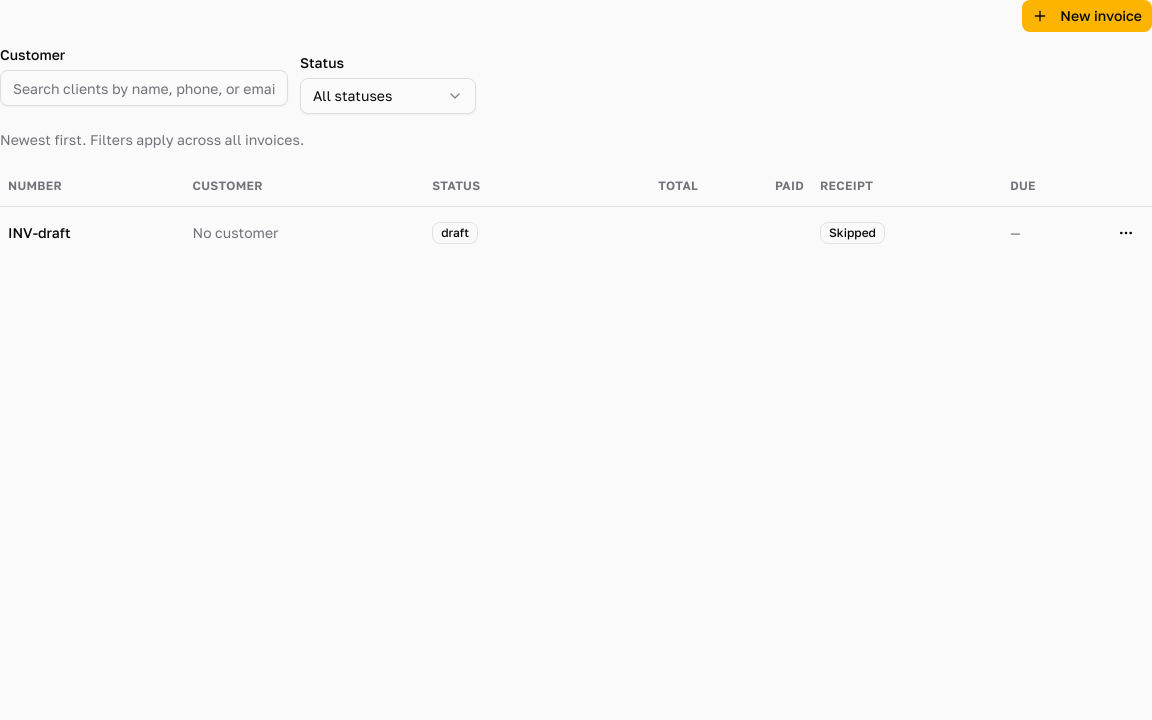
Test case: invoice row actions › asks before destroying a draft, naming which one
This screenshot has width=1152, height=720.
Click the button named "Actions" at (1126, 232), box [1108, 214, 1144, 250]
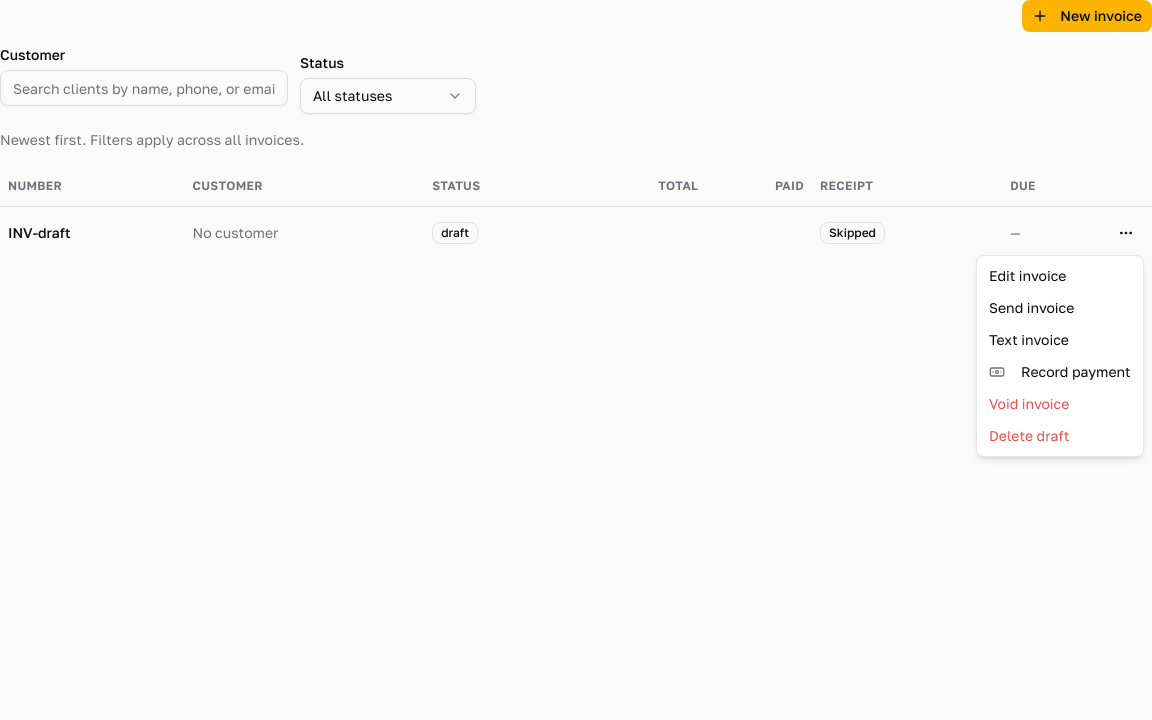
Click the menu item "Delete draft" at (1029, 436), box [989, 427, 1069, 444]
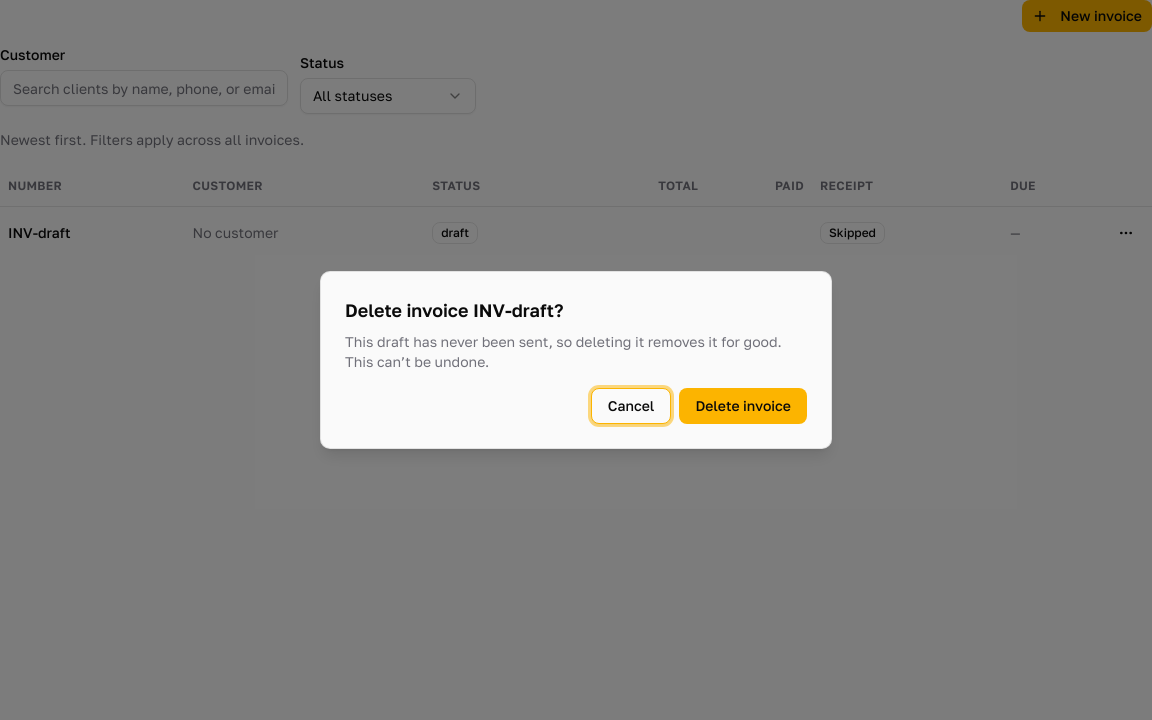
Expected: the dialog shows "INV-draft", [473, 299, 554, 321]
Expected: the dialog shows "can.t be undone", [345, 333, 782, 370]
